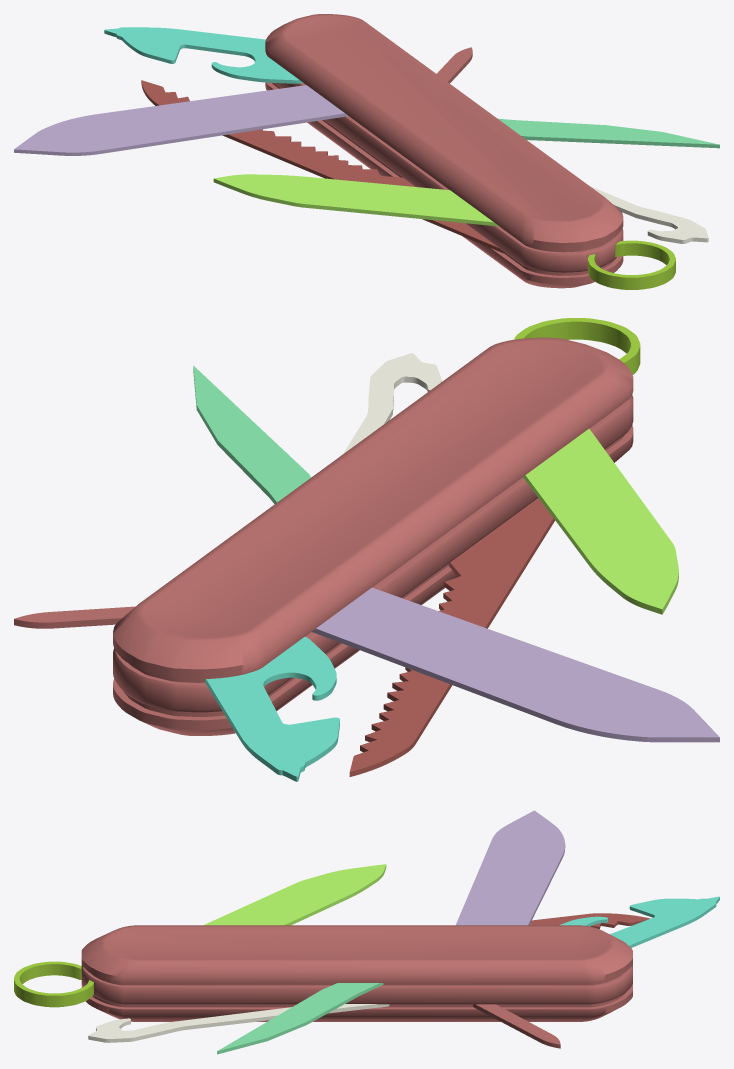
3 views of the same model, one above another, from view 1: azimuth 30°, elevation 25°; view 2: azimuth 150°, elevation 25°; view 3: azimuth 270°, elevation 25° (orthographic). The views are drawn at different scales.
Parts seen in each view (by area): view 1: split_parent_0, Box002_Material #45_0.070, Box002_Material #45_0.024, Box002_Material #45_0.075, Box002_Material #45_0.029, Box002_Material #45_0.019, Box002_Material #45_0.009, Box002_Material #45_0.015; view 2: split_parent_0, Box002_Material #45_0.070, Box002_Material #45_0.024, Box002_Material #45_0.029, Box002_Material #45_0.075, Box002_Material #45_0.019, Box002_Material #45_0.015, Box002_Material #45_0.009; view 3: split_parent_0, Box002_Material #45_0.070, Box002_Material #45_0.024, Box002_Material #45_0.075, Box002_Material #45_0.019, Box002_Material #45_0.015, Box002_Material #45_0.009, Box002_Material #45_0.029.
Boxes of the visible parts, left/top/right/bottom form: split_parent_0: left=265, top=14, right=623, bottom=288; Box002_Material #45_0.070: left=14, top=85, right=348, bottom=155; Box002_Material #45_0.024: left=213, top=174, right=499, bottom=226; Box002_Material #45_0.075: left=104, top=27, right=303, bottom=83; Box002_Material #45_0.029: left=141, top=80, right=505, bottom=253; Box002_Material #45_0.019: left=498, top=118, right=719, bottom=148; Box002_Material #45_0.009: left=588, top=240, right=675, bottom=289; Box002_Material #45_0.015: left=590, top=186, right=708, bottom=243; split_parent_0: left=14, top=337, right=633, bottom=735; Box002_Material #45_0.070: left=311, top=587, right=719, bottom=742; Box002_Material #45_0.024: left=523, top=428, right=678, bottom=614; Box002_Material #45_0.029: left=349, top=498, right=554, bottom=776; Box002_Material #45_0.075: left=205, top=636, right=339, bottom=781; Box002_Material #45_0.019: left=193, top=365, right=310, bottom=504; Box002_Material #45_0.015: left=343, top=353, right=441, bottom=453; Box002_Material #45_0.009: left=514, top=318, right=640, bottom=374; split_parent_0: left=81, top=925, right=632, bottom=1048; Box002_Material #45_0.070: left=456, top=810, right=565, bottom=925; Box002_Material #45_0.024: left=204, top=864, right=386, bottom=925; Box002_Material #45_0.075: left=559, top=896, right=719, bottom=947; Box002_Material #45_0.019: left=217, top=983, right=383, bottom=1054; Box002_Material #45_0.015: left=88, top=1004, right=389, bottom=1042; Box002_Material #45_0.009: left=14, top=961, right=93, bottom=1007; Box002_Material #45_0.029: left=530, top=913, right=650, bottom=929.
Bounding box in the file's own units: 0.8077 × 0.0946 × 1.
